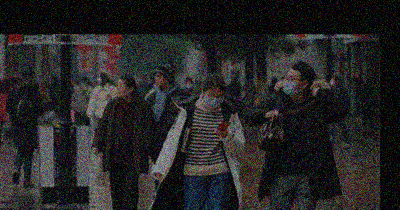with_mask: (283, 73, 300, 98), (204, 91, 224, 109), (184, 80, 192, 89), (79, 78, 87, 87), (96, 74, 102, 85), (329, 77, 335, 87)
without_mask: (116, 82, 127, 99), (153, 72, 165, 87)
